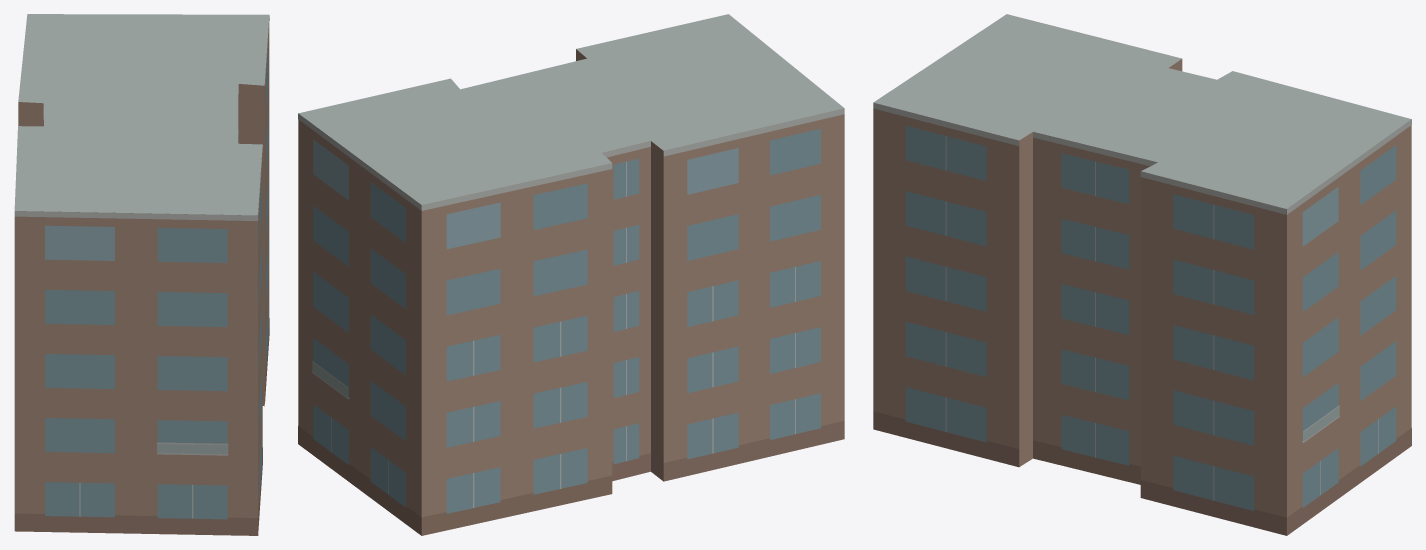
The model's file is survey-upis-32673767.glb.
3 renders of one model, left to right at view 1: azimuth 30°, elevation 25°; view 2: azimuth 150°, elevation 25°; view 3: azimuth 270°, elevation 25°, orthographic. The views are drawn at different scales.
Parts seen in each view (by area): view 1: survey-upis-32673767.tmp; view 2: survey-upis-32673767.tmp; view 3: survey-upis-32673767.tmp.
Part boxes in pixels (left/top/right/bottom): survey-upis-32673767.tmp: left=14, top=14, right=269, bottom=535; survey-upis-32673767.tmp: left=298, top=14, right=844, bottom=535; survey-upis-32673767.tmp: left=873, top=14, right=1411, bottom=535.
Size of the model in its own units: 17.68 by 13.8 by 20.62.
